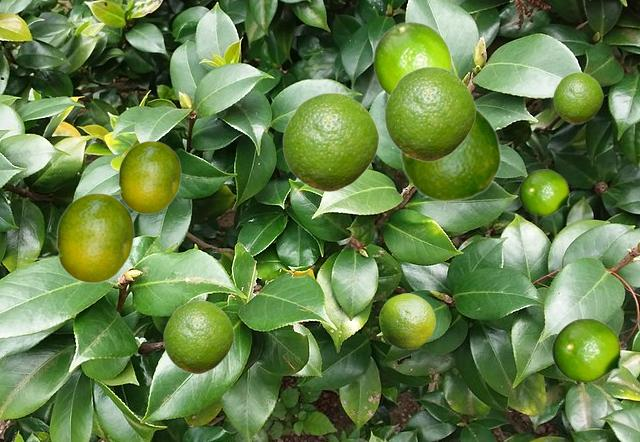calamansi: (399, 106, 501, 201), (282, 92, 378, 191), (30, 192, 133, 282), (384, 66, 475, 161), (373, 21, 451, 96), (106, 140, 180, 213), (163, 300, 233, 373), (551, 318, 628, 382), (379, 293, 434, 348), (518, 169, 574, 215), (553, 72, 602, 123)
